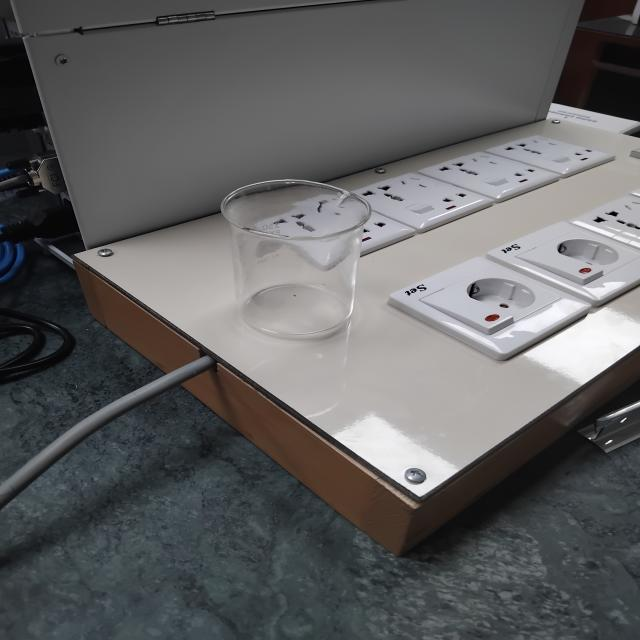Beaker: (192, 144, 399, 355)
